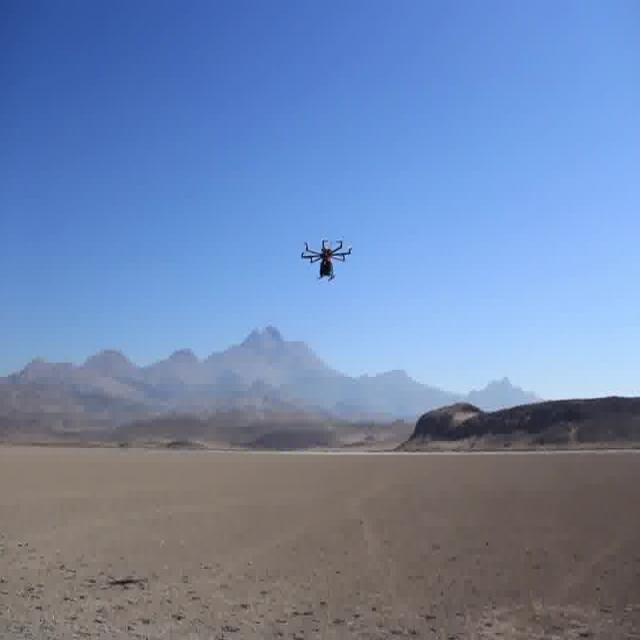drone: (300, 226, 358, 292)
